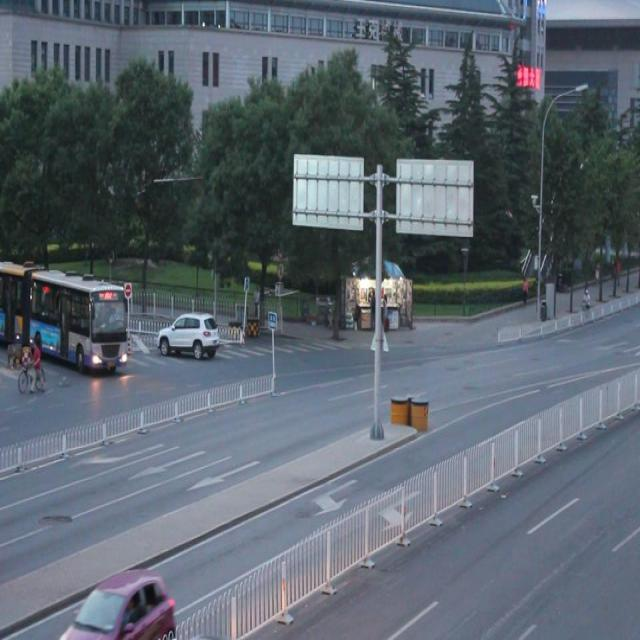car: (62, 562, 176, 640), (158, 308, 218, 360)
van: (1, 258, 128, 374)
